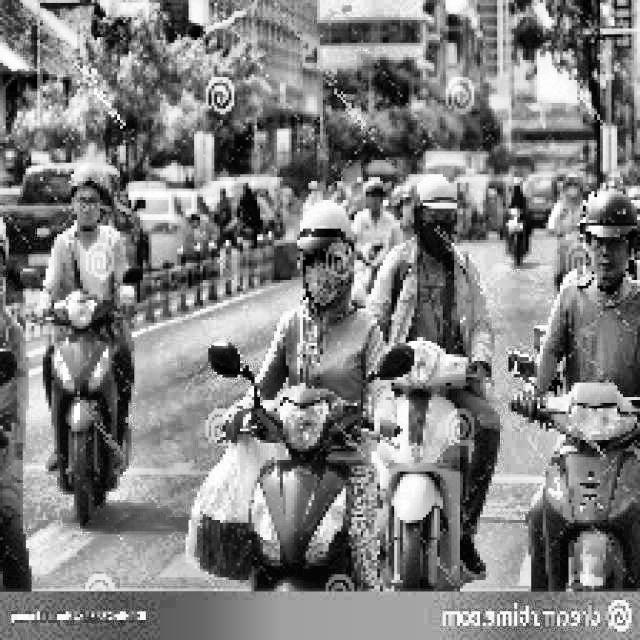motorcycle: (207, 336, 417, 592), (22, 264, 166, 522), (504, 350, 640, 593), (417, 333, 523, 585), (495, 180, 539, 264), (556, 213, 589, 281)
